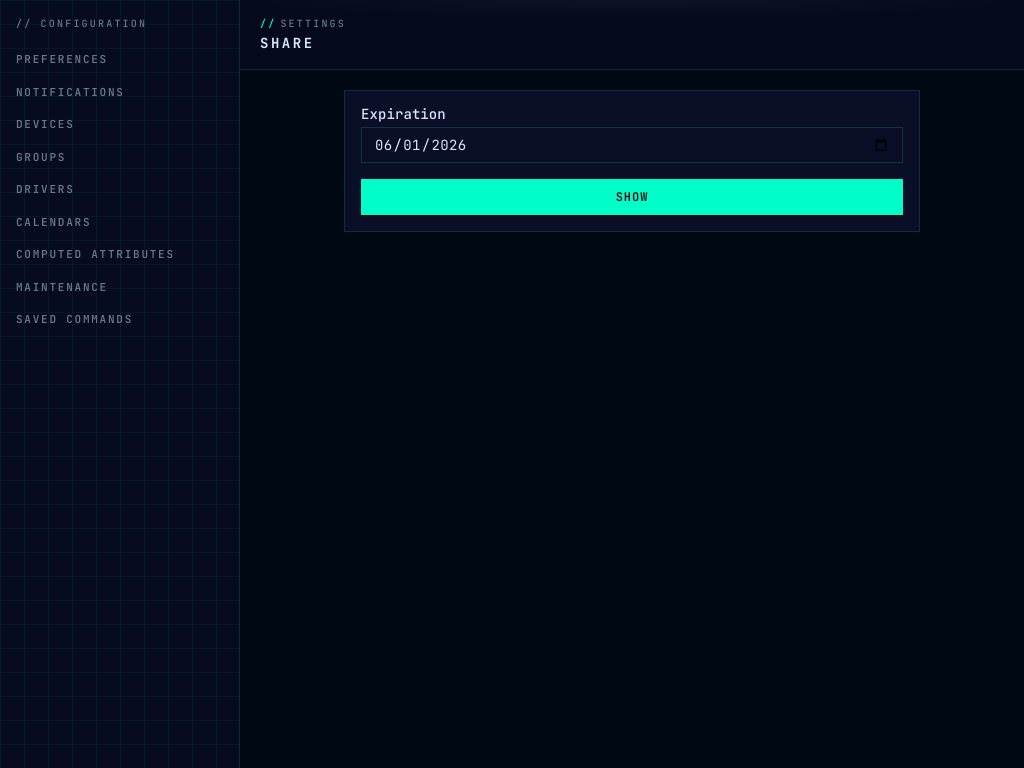
Test case: SharePage › generates a share link from the returned token
This screenshot has width=1024, height=768.
Click the button "Show". click: (632, 197)
box: [361,179,903,215]
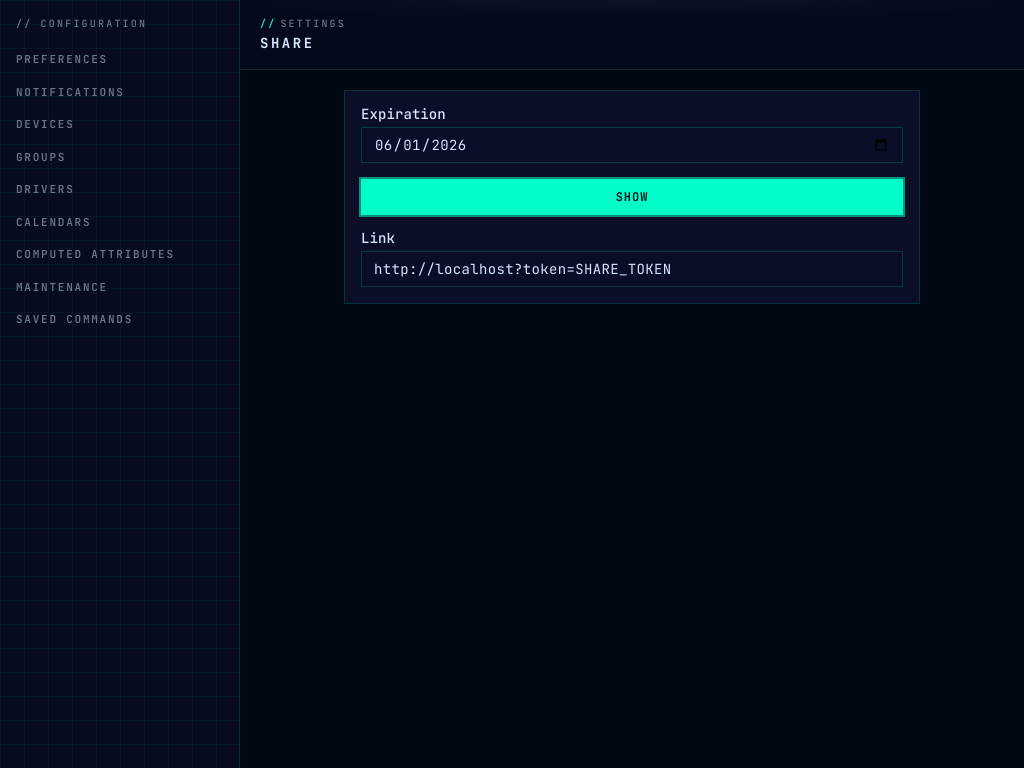
Now the field showing "token=SHARE_TOKEN" is shown, box [361,251,903,287]
